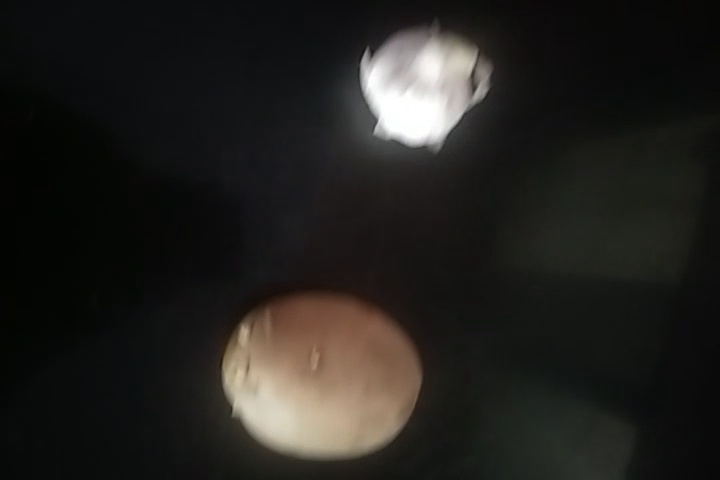garlic: (356, 37, 497, 151)
potato: (205, 297, 426, 457)
